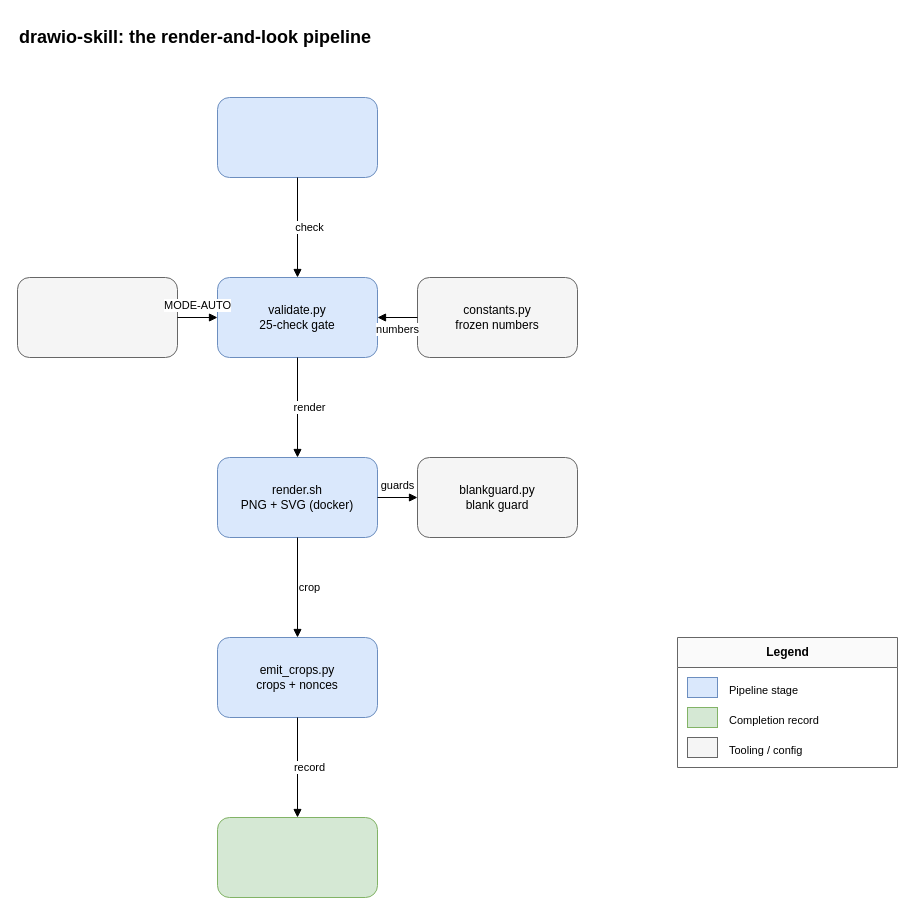
Image size: 915x915. Some labels were removed from this diagram. Here are the shapes that lost their labels. From the top down, the centre of each, then its label:
(x=297, y=137): Author .drawio XML
(x=97, y=317): layout_auto.py ELK placement
(x=297, y=857): DONE-CHECK completion record
